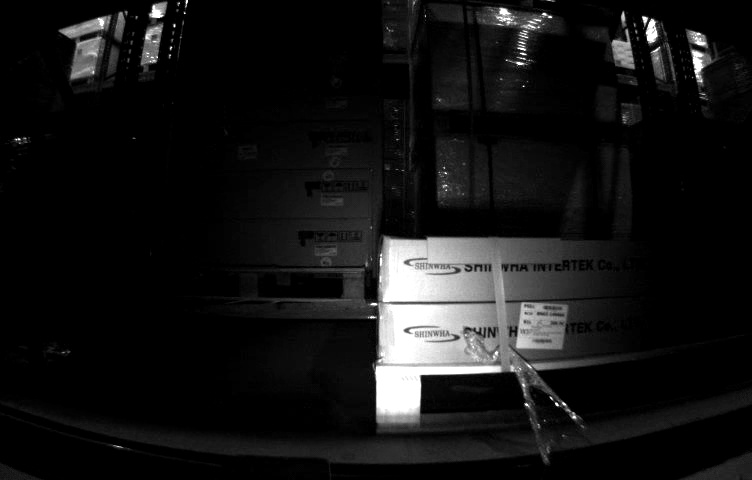True Barcode: (523, 302, 568, 351)
